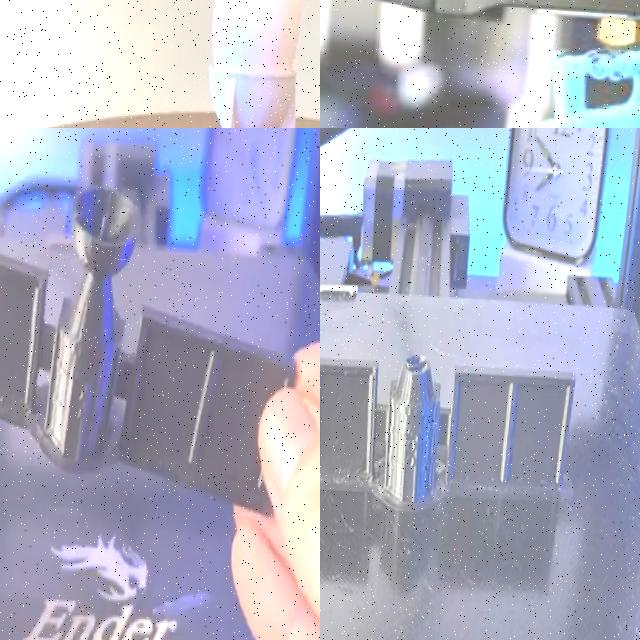spaghetti: (540, 29, 640, 96)
